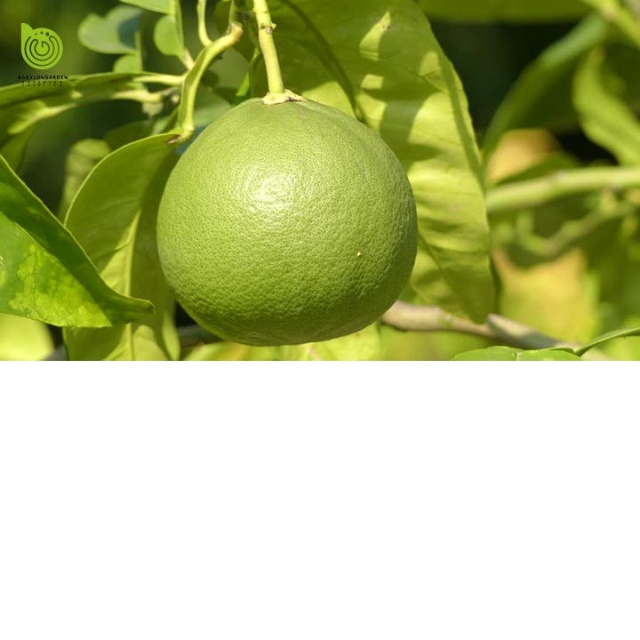buoi: (153, 90, 423, 348)
